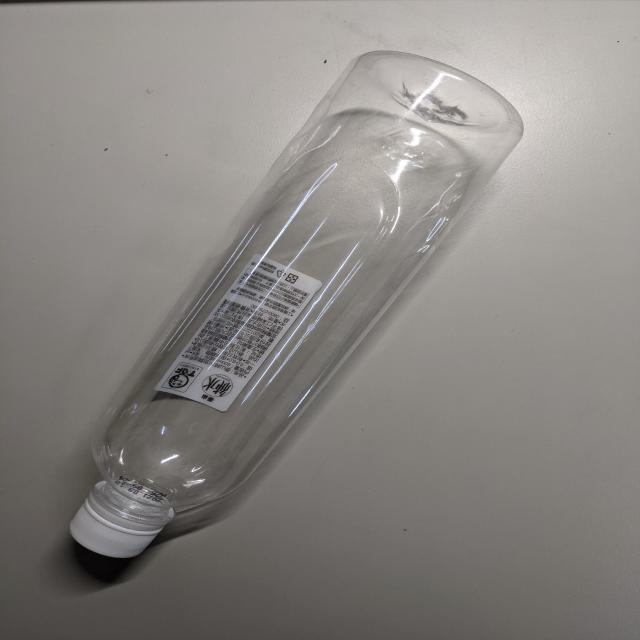Plastic: (69, 46, 532, 568)
